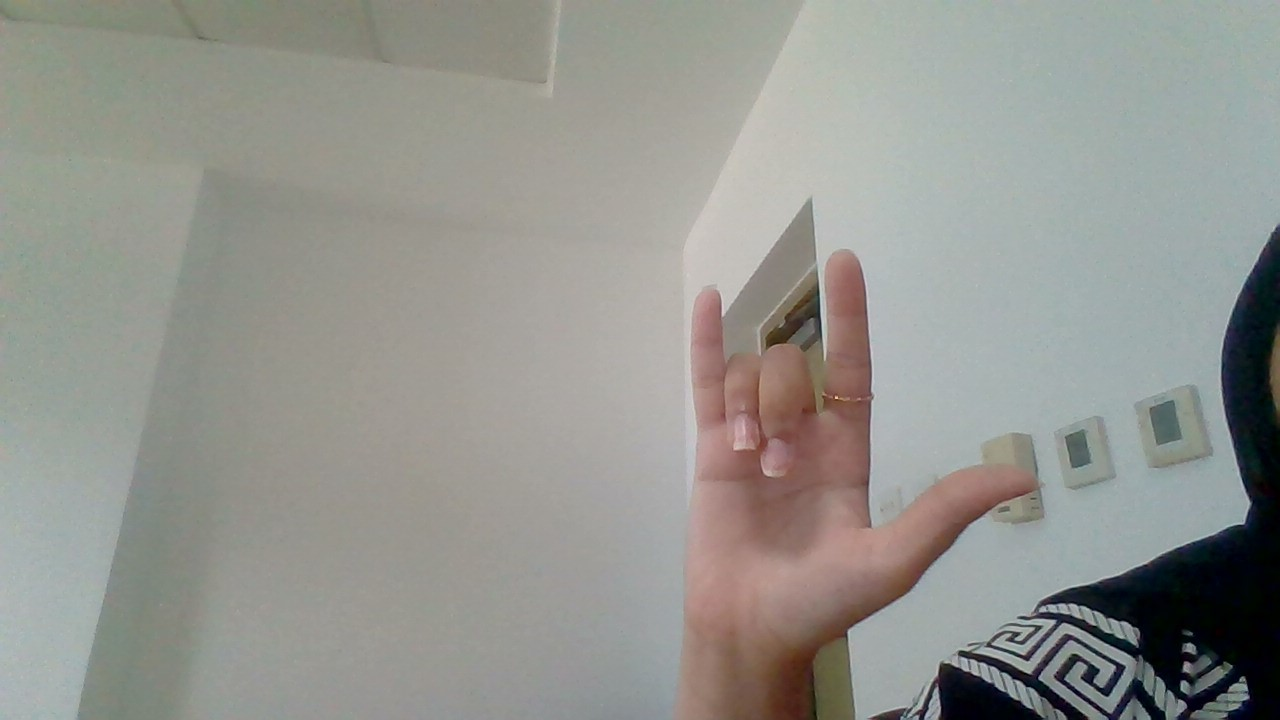love: (636, 241, 1055, 669)
